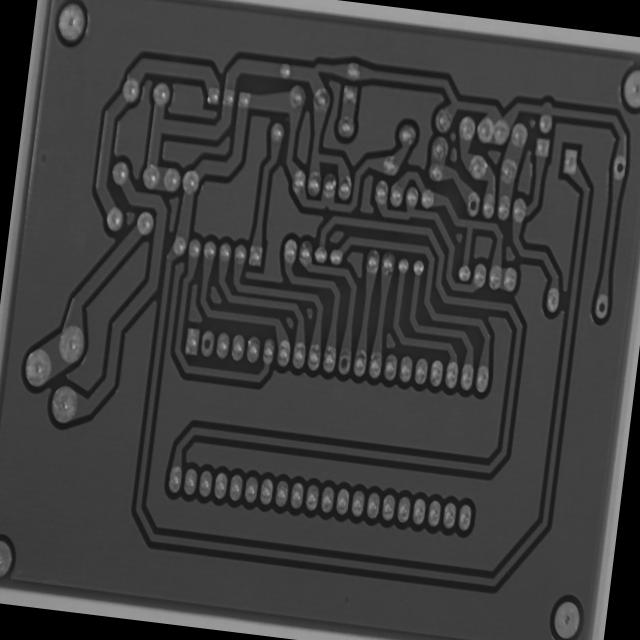missing_hole: (590, 289, 614, 322), (332, 346, 356, 378), (197, 326, 218, 359), (462, 186, 482, 218), (610, 151, 630, 182)
